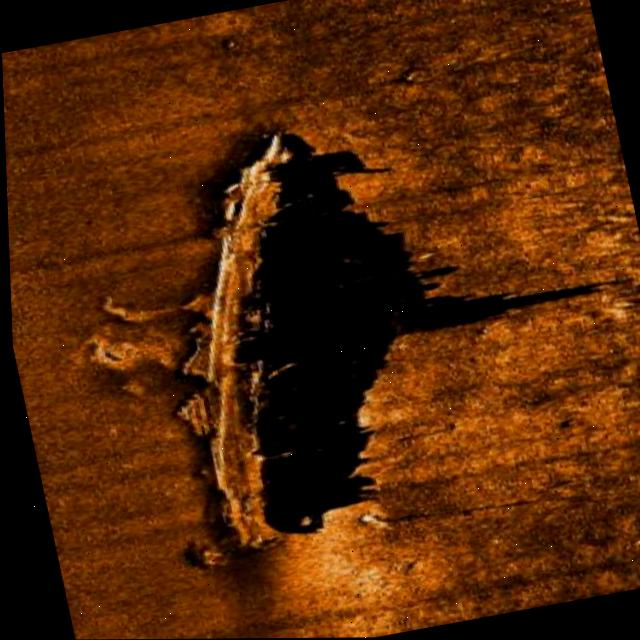shipwreck: (136, 132, 370, 558)
